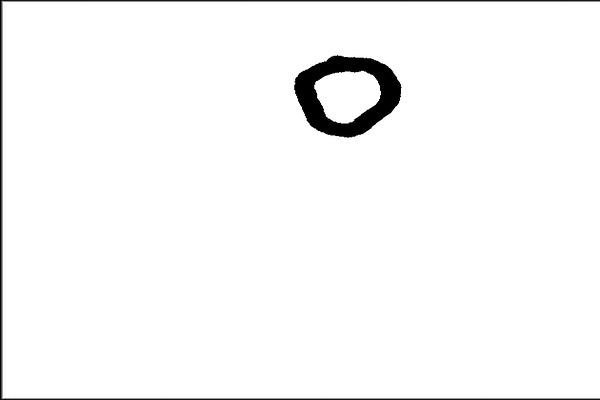O: (277, 42, 405, 151)
